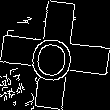O_N: (30, 27, 80, 83)
